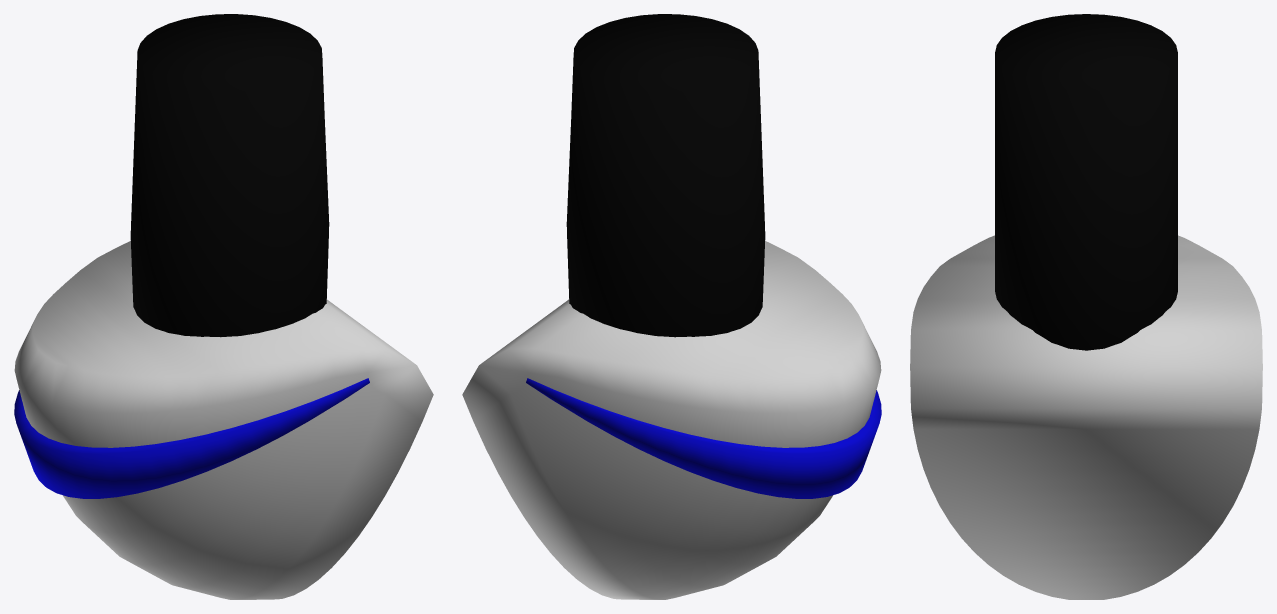
The model's file is lupperarm.obj.
3 views of the same model, side by side, from view 1: azimuth 30°, elevation 25°; view 2: azimuth 150°, elevation 25°; view 3: azimuth 270°, elevation 25° (orthographic).
Parts seen in each view (by area): view 1: upperarm_Cylinder; view 2: upperarm_Cylinder; view 3: upperarm_Cylinder.
Boxes of the visible parts, x1,y1,x2,y2 form: upperarm_Cylinder: [14, 14, 433, 599]; upperarm_Cylinder: [462, 14, 881, 599]; upperarm_Cylinder: [910, 14, 1262, 599].
Size of the model in its own units: 1.21 by 1.99 by 1.18.
